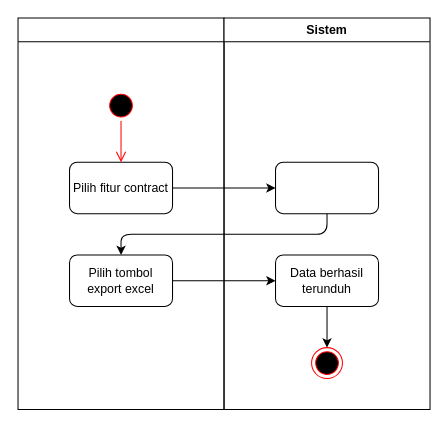
Image size: 448x427. Some labels were removed from this diagram. Here are the shapes that lost their labels. From the top down, the box of each, then its label:
(274, 161, 379, 214): Menampilkan halaman contract
(17, 17, 224, 409): User
